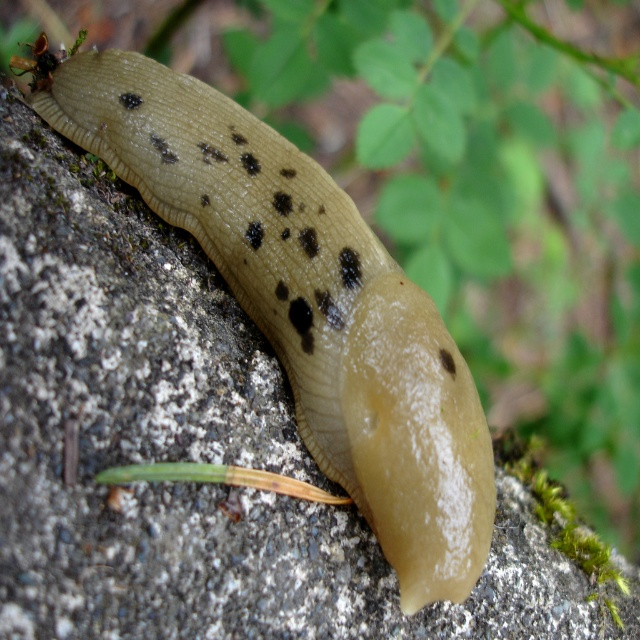Snail: (9, 31, 496, 616)
